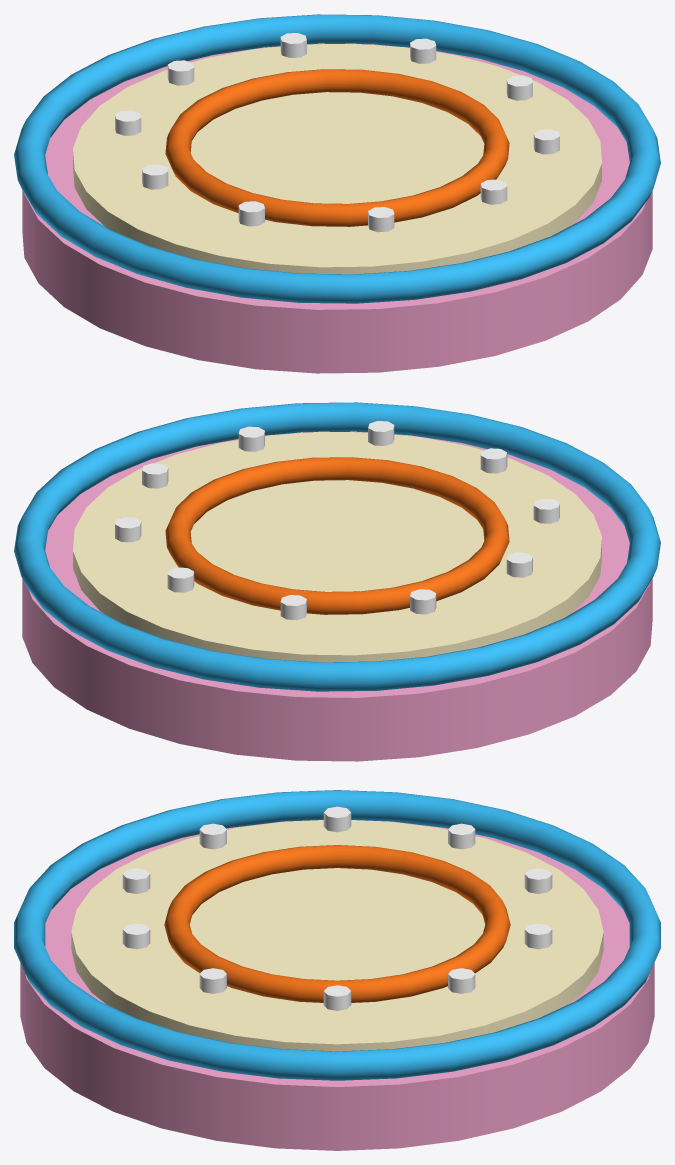
Rendered from toy_round_disc_s6_candy.glb.
3 renders of one model, top to bottom at view 1: azimuth 30°, elevation 25°; view 2: azimuth 150°, elevation 25°; view 3: azimuth 270°, elevation 25°, orthographic.
Visible parts, largest first — view 1: solid_2, solid_1, solid_3, solid_4, solid_12, solid_7, solid_6, solid_9, solid_10, solid_11, solid_14, solid_5 (+2 smaller); view 2: solid_2, solid_1, solid_3, solid_4, solid_8, solid_13, solid_11, solid_14, solid_6, solid_9, solid_10, solid_5 (+2 smaller); view 3: solid_2, solid_1, solid_3, solid_4, solid_10, solid_7, solid_13, solid_5, solid_8, solid_12, solid_6, solid_14 (+2 smaller).
Boxes of the visible parts, x1,y1,x2,y2 form: solid_2: [73, 43, 601, 274]; solid_1: [22, 44, 652, 373]; solid_3: [14, 14, 660, 303]; solid_4: [165, 69, 509, 226]; solid_12: [167, 60, 194, 85]; solid_7: [480, 179, 507, 204]; solid_6: [533, 129, 559, 154]; solid_9: [238, 201, 264, 226]; solid_10: [142, 164, 168, 189]; solid_11: [115, 110, 141, 135]; solid_14: [410, 38, 436, 63]; solid_5: [506, 75, 532, 100]; solid_2: [73, 431, 601, 662]; solid_1: [22, 432, 652, 761]; solid_3: [14, 402, 660, 691]; solid_4: [165, 457, 509, 614]; solid_8: [480, 448, 507, 473]; solid_13: [167, 567, 194, 592]; solid_11: [410, 589, 436, 614]; solid_14: [115, 517, 141, 542]; solid_6: [238, 426, 264, 451]; solid_9: [533, 498, 559, 523]; solid_10: [506, 552, 532, 577]; solid_5: [142, 463, 168, 488]; solid_2: [71, 820, 603, 1051]; solid_1: [20, 821, 654, 1150]; solid_3: [14, 790, 660, 1080]; solid_4: [164, 845, 510, 1002]; solid_10: [323, 806, 351, 832]; solid_7: [122, 923, 150, 949]; solid_13: [524, 923, 552, 949]; solid_5: [323, 985, 351, 1010]; solid_8: [122, 868, 150, 893]; solid_12: [524, 868, 552, 893]; solid_6: [199, 968, 226, 993]; solid_14: [448, 968, 475, 993].
Size of the model in its own units: 3.32 by 0.65 by 3.31.
